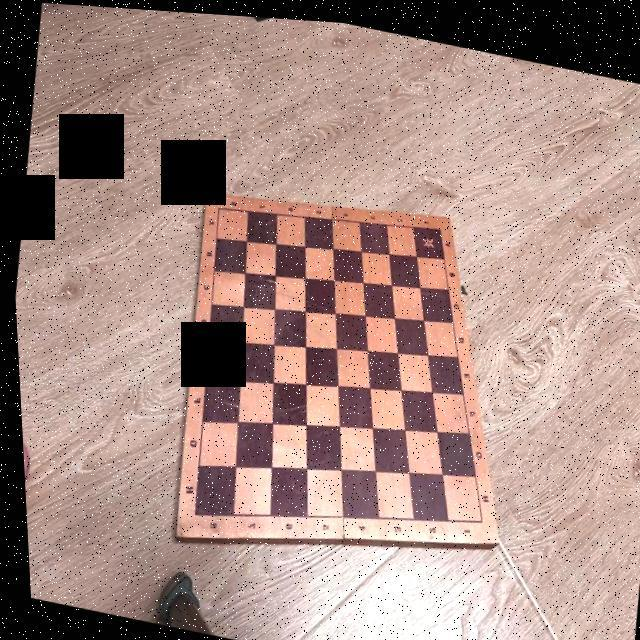chess-table-corners: (184, 507, 196, 518), (472, 510, 482, 520), (434, 218, 442, 230), (213, 200, 221, 212)
